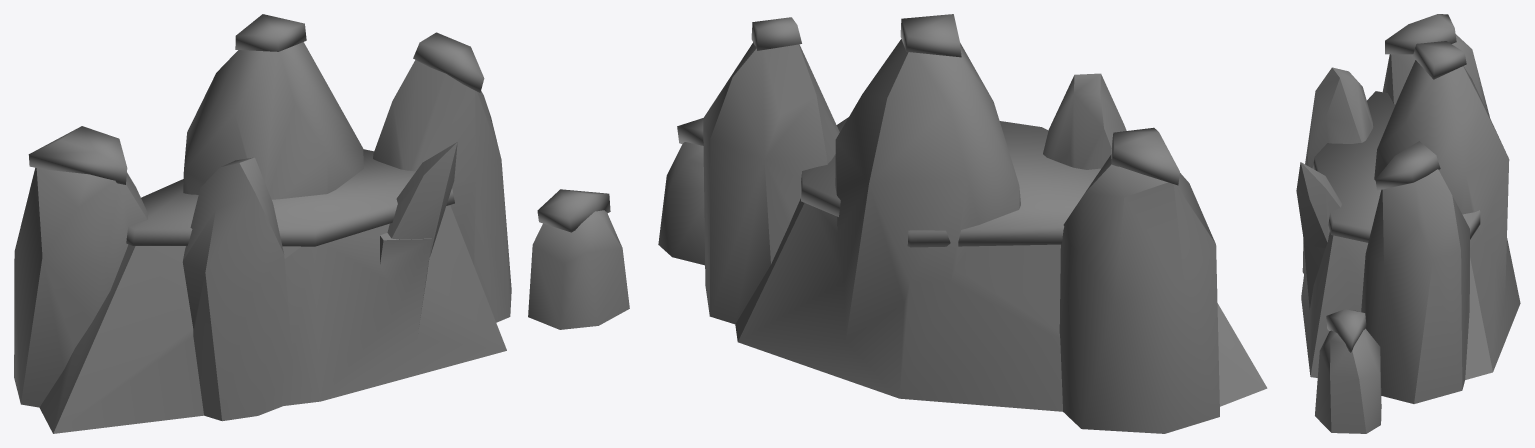
The model's file is rocks_snow_D_blue.fbx.
The picture shows the model from 3 angles, left to right: view 1: azimuth 30°, elevation 25°; view 2: azimuth 150°, elevation 25°; view 3: azimuth 270°, elevation 25°; orthographic projection. The views are drawn at different scales.
Visible parts, largest first — view 1: rocks_snow_D_blue; view 2: rocks_snow_D_blue; view 3: rocks_snow_D_blue.
Boxes of the visible parts, x1,y1,x2,y2 form: rocks_snow_D_blue: [14, 14, 629, 433]; rocks_snow_D_blue: [658, 14, 1267, 433]; rocks_snow_D_blue: [1296, 14, 1520, 433].
Bounding box in the file's own units: 7.54 × 4.03 × 3.06.
